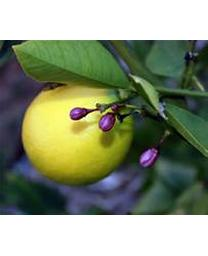lemon: (23, 81, 136, 187)
